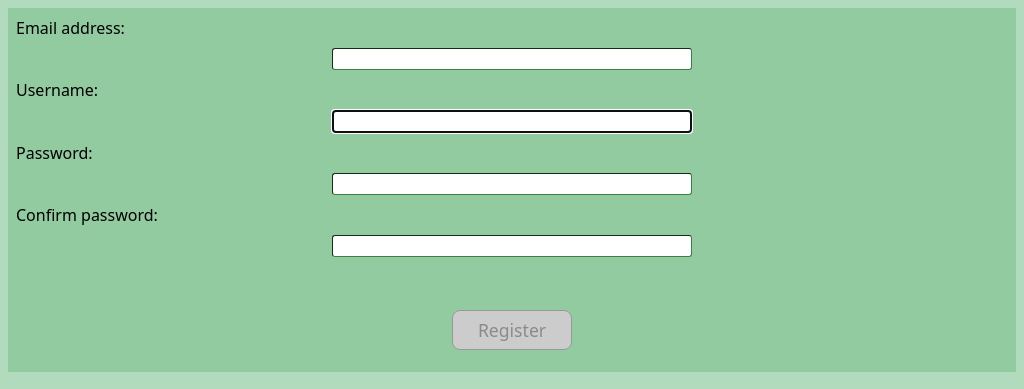
Test: registration form › input validation › initially disabled button enabled with valid field inputs
The width and height of the screenshot is (1024, 389).
Expected: the button "Register" is disabled, [452,310,572,350]
In the field labelled "Email address:": coordinates (512, 59) [332,48,692,70], type "test@gmail.com"
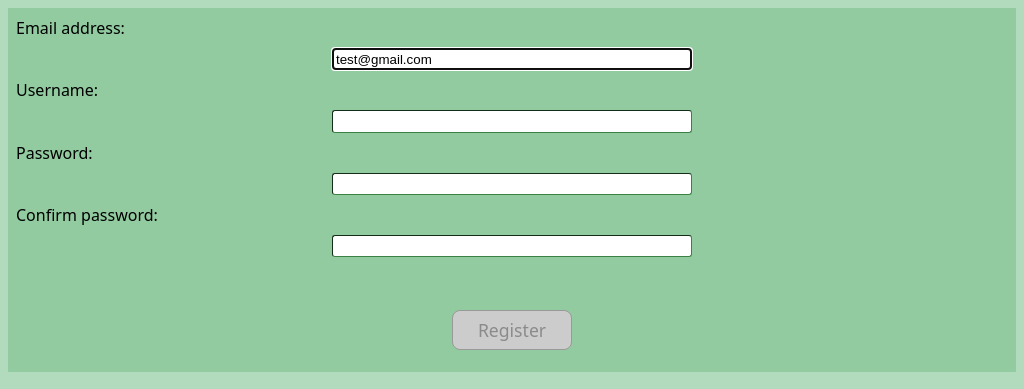
In the field labelled "Username:": coordinates (512, 121) [332,110,692,133], type "validUser"
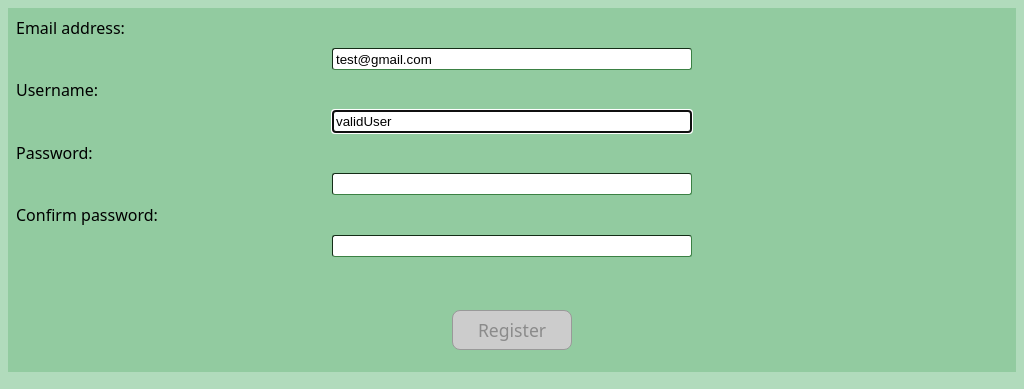
In the password field labelled "Password:": coordinates (512, 184) [332,173,692,195], type "MyPwd123!"
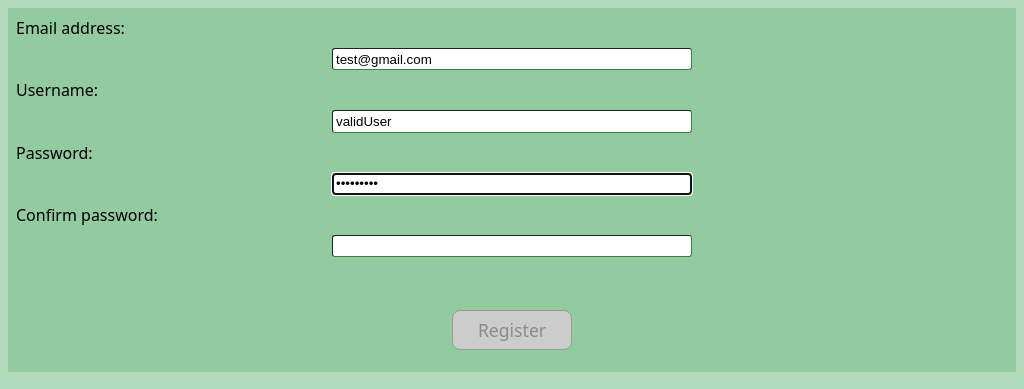
In the password field labelled "Confirm password:": coordinates (512, 246) [332,235,692,257], type "MyPwd123!"
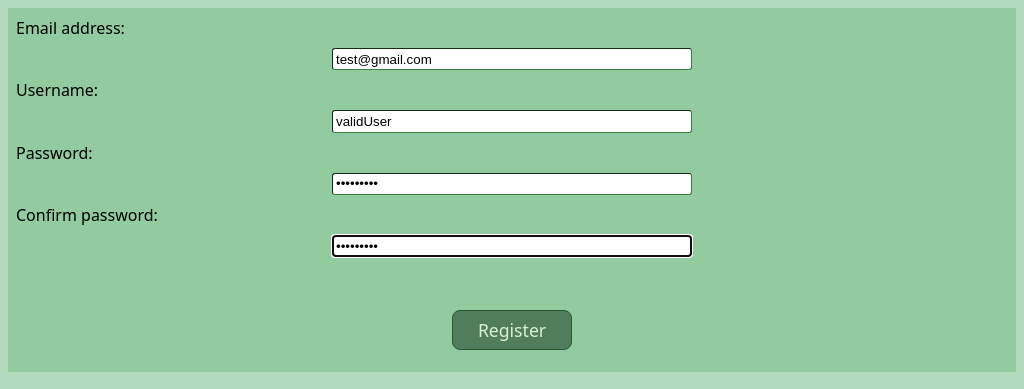
Now the button "Register" is enabled, box [452,310,572,350]
